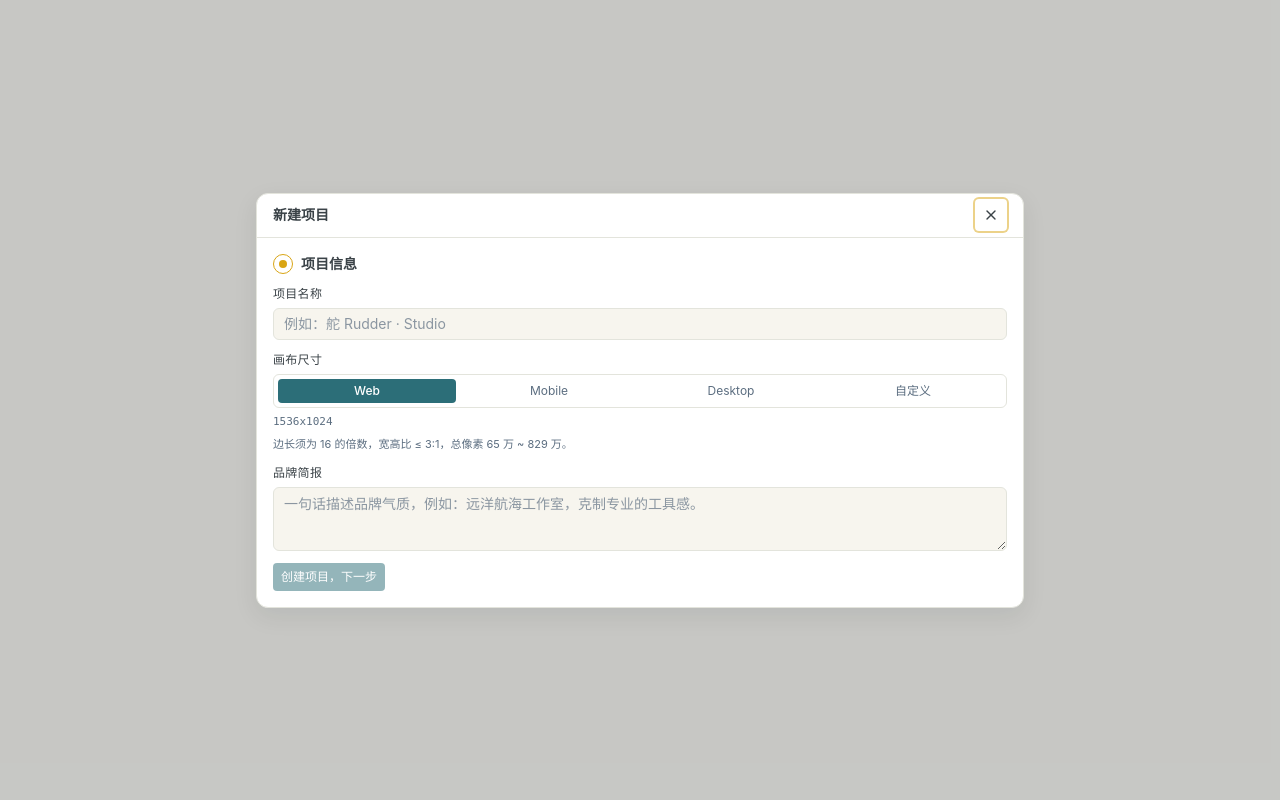
Test case: create wizard generation experience (P2) › board generation shows the JobPanel pose; cancel returns to the empty state with no orphan job
The width and height of the screenshot is (1280, 800).
In the field with test id "wizard-name-input": (640, 324) [273,308,1007,340], type "演示项目"
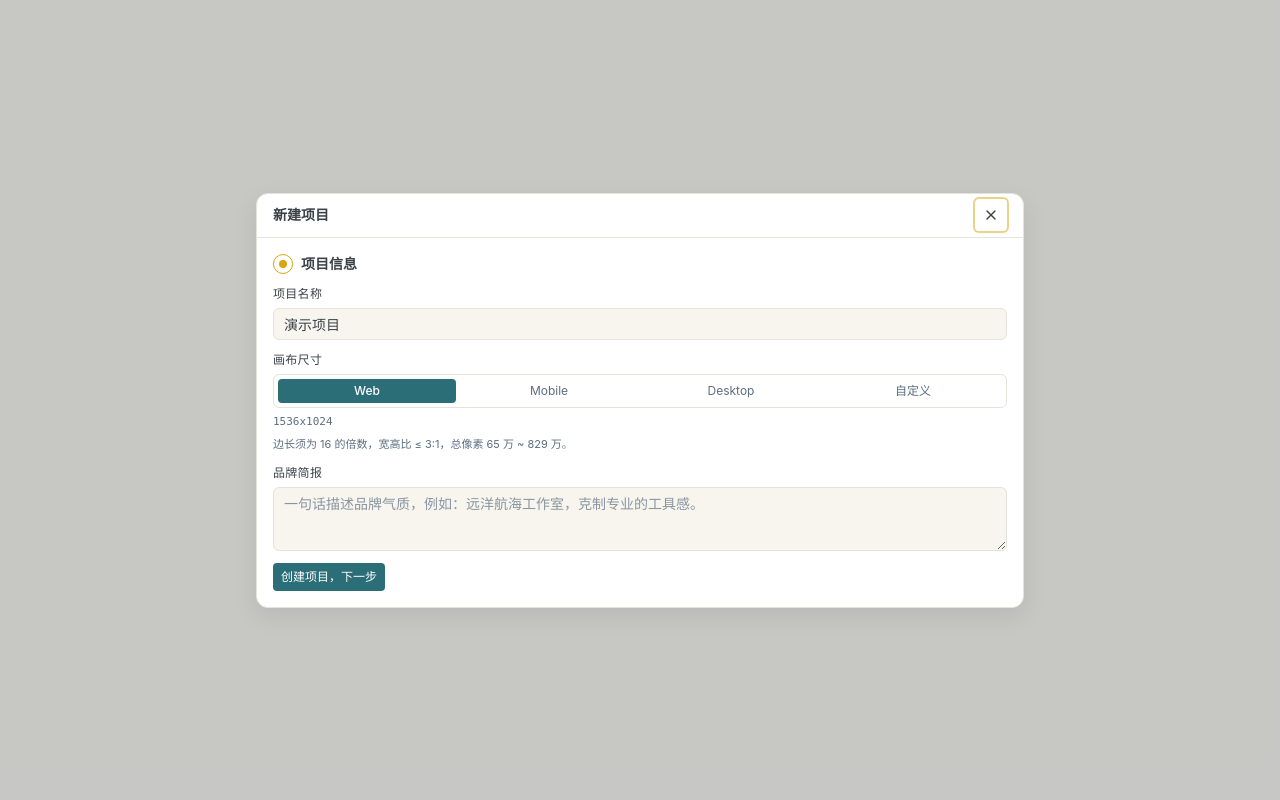
Click the button with test id "wizard-create": click(329, 576) [273,562,385,590]
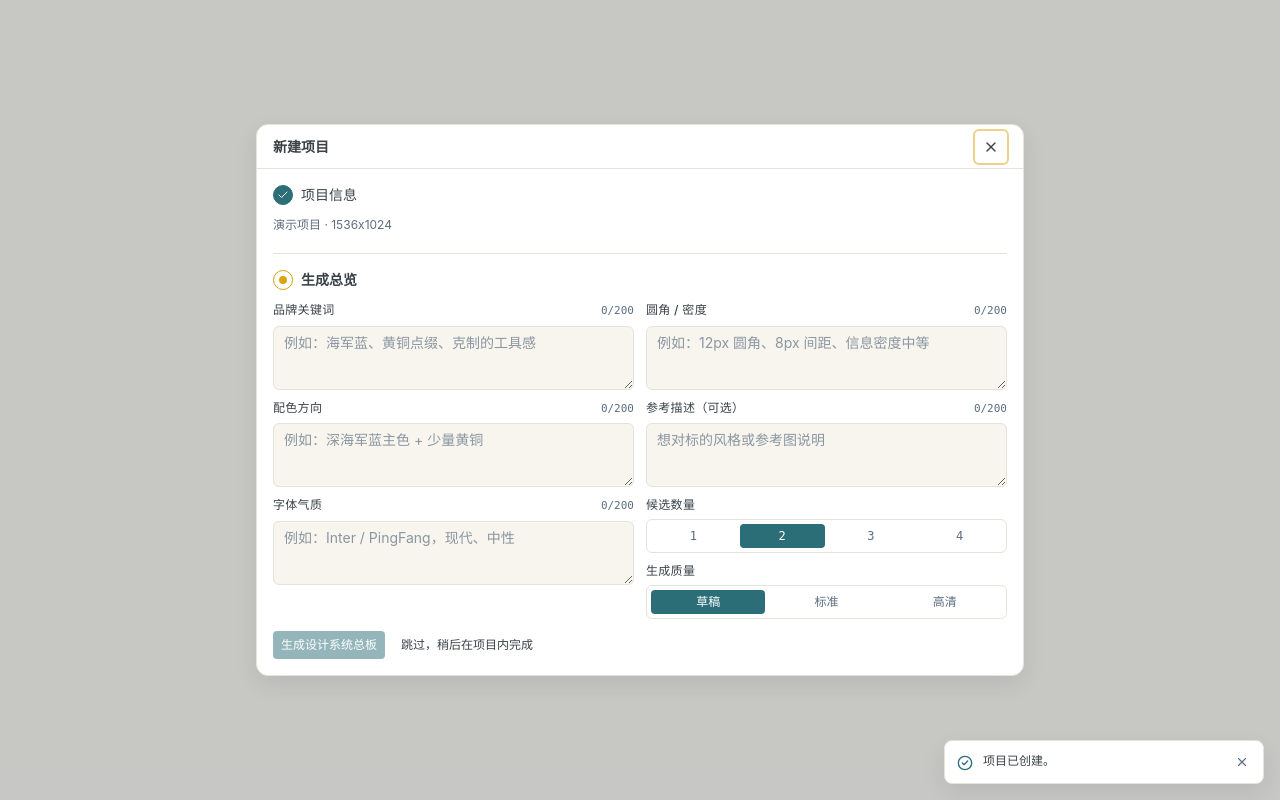
Now the button with test id "wizard-generate" is shown, box [273,631,385,659]
In the text box with test id "wizard-brand": (454, 358) [273,326,634,390], type "苍青主色，缃色点缀"
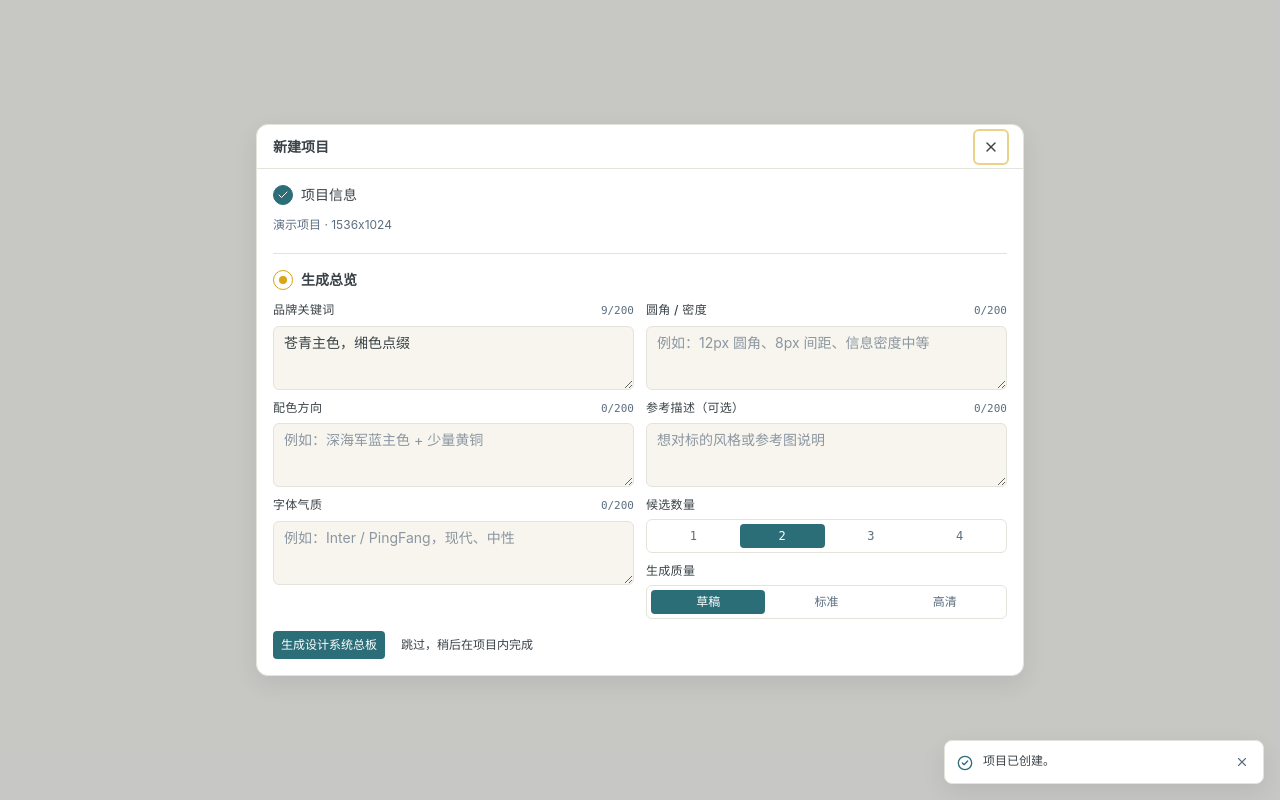
Click the button with test id "wizard-generate": click(329, 645) [273,631,385,659]
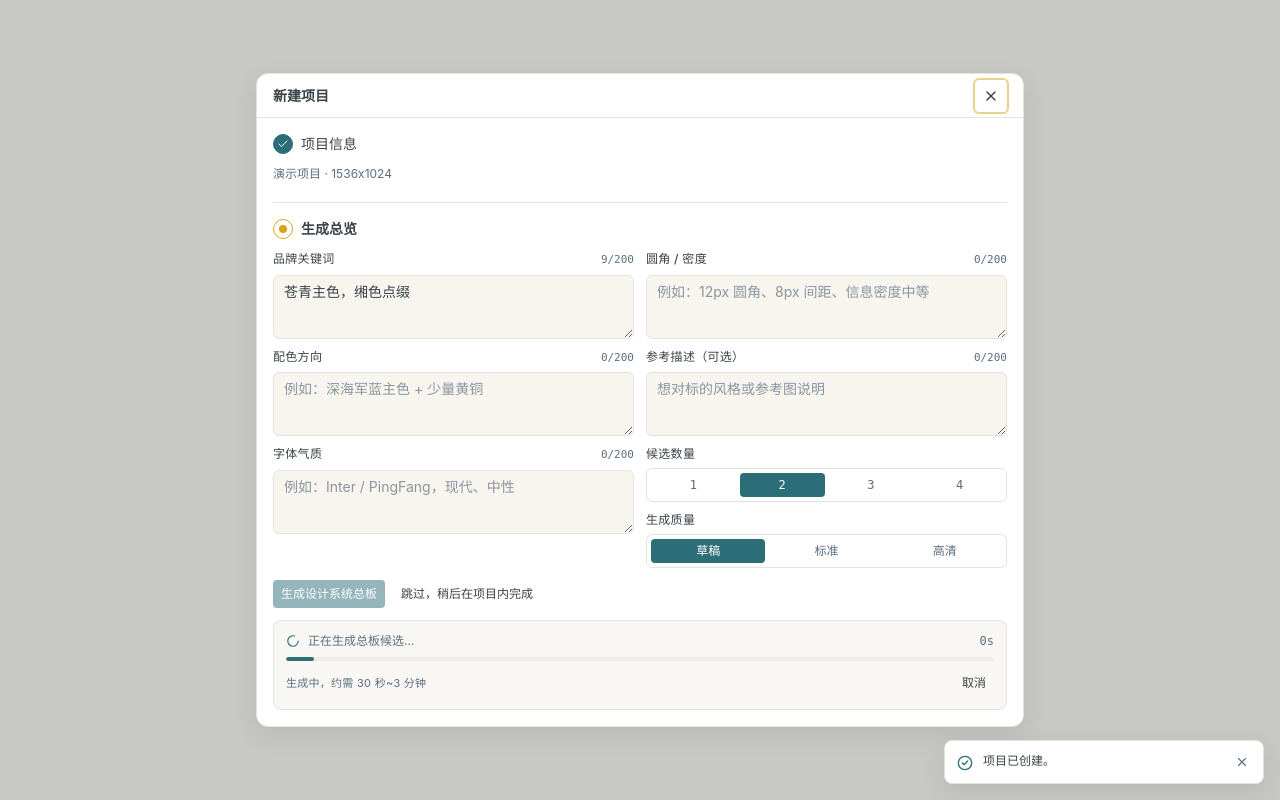
Now the progress indicator is shown, box [286,657,994,661]
Now the button with test id "job-cancel" is shown
Now the text "生成中，约需 30 秒~3 分钟" is shown, box [286,675,426,691]
Click the button with test id "job-cancel": click(974, 683) [954,669,994,697]
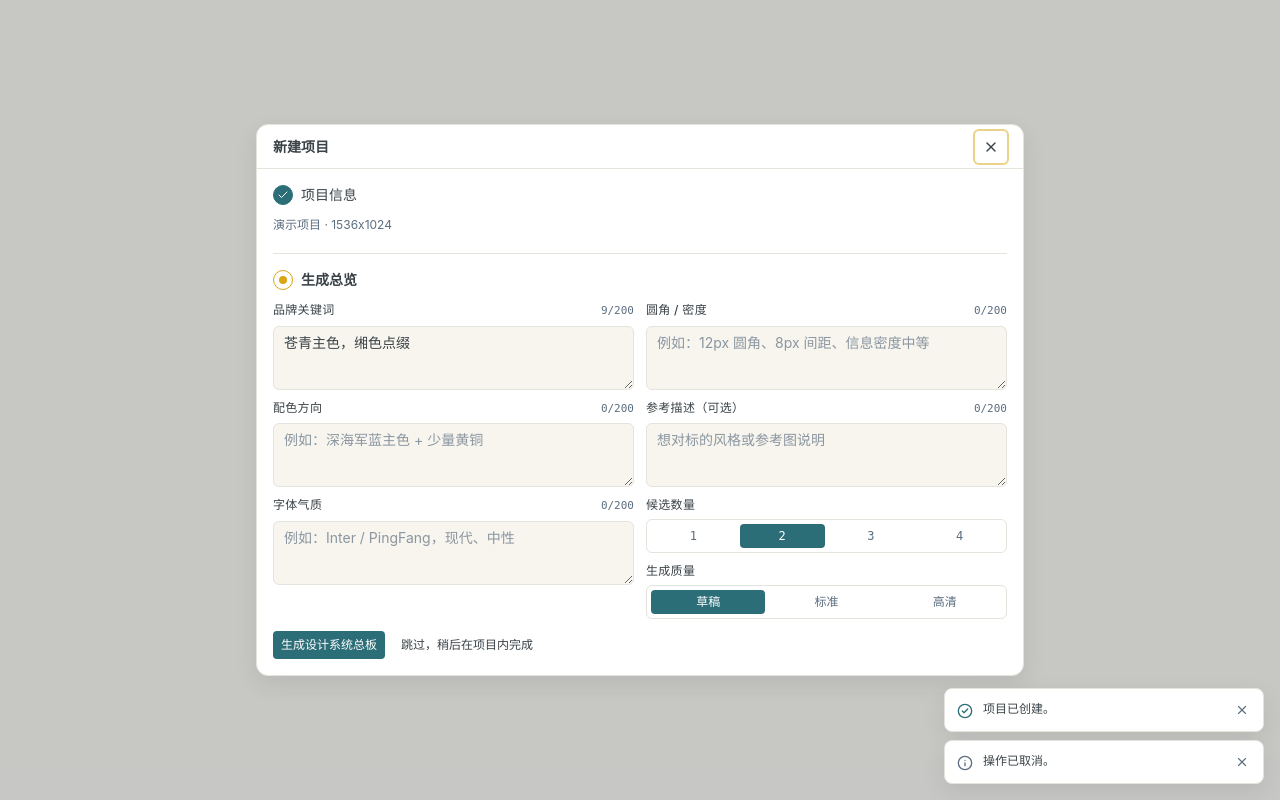
Now the element with test id "job-panel" is gone
Now the button with test id "wizard-generate" is enabled, box [273,631,385,659]
Now the text "操作已取消。" is shown, box [983,753,1055,768]
